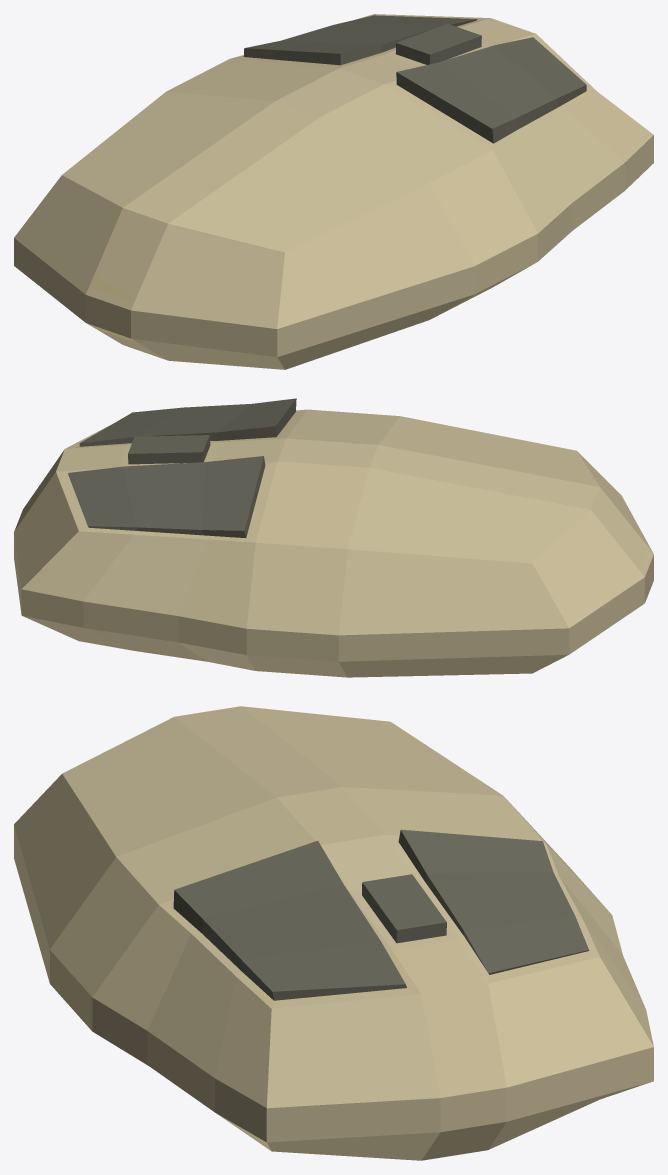
File: object_12_lev1.glb
The picture shows the model from 3 angles, top to bottom: view 1: azimuth 30°, elevation 25°; view 2: azimuth 150°, elevation 25°; view 3: azimuth 270°, elevation 25°; orthographic projection. The views are drawn at different scales.
Parts seen in each view (by area): view 1: object_12_lev1; view 2: object_12_lev1; view 3: object_12_lev1.
Boxes of the visible parts, x1,y1,x2,y2 form: object_12_lev1: [14, 14, 653, 369]; object_12_lev1: [14, 398, 653, 677]; object_12_lev1: [14, 706, 653, 1160].
Bounding box in the file's own units: 0.1251 × 0.0389 × 0.097.
Materials: 1 (1 with a texture image).
